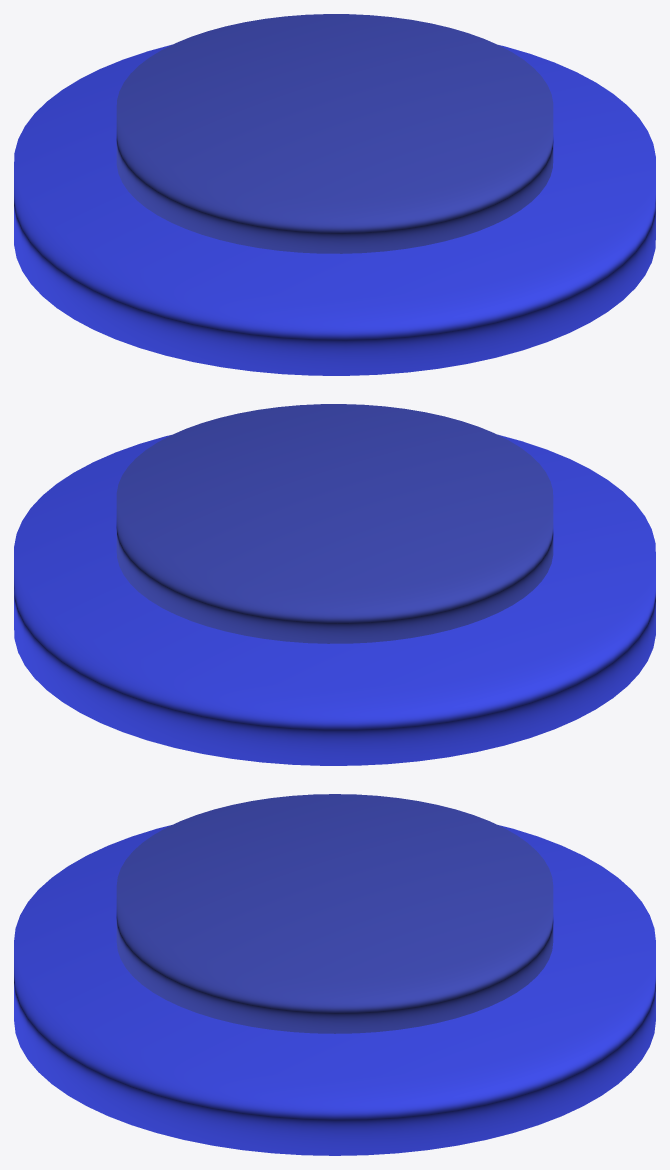
File: stage.fbx
3 views of the same model, one above another, from view 1: azimuth 30°, elevation 25°; view 2: azimuth 150°, elevation 25°; view 3: azimuth 270°, elevation 25° (orthographic).
Visible parts, largest first — view 1: Cylinder; view 2: Cylinder; view 3: Cylinder.
Part boxes in pixels (bbox=[...]): Cylinder: bbox=[14, 14, 655, 375]; Cylinder: bbox=[14, 404, 655, 765]; Cylinder: bbox=[14, 794, 655, 1155].
Size of the model in its own units: 654 by 151 by 654.
